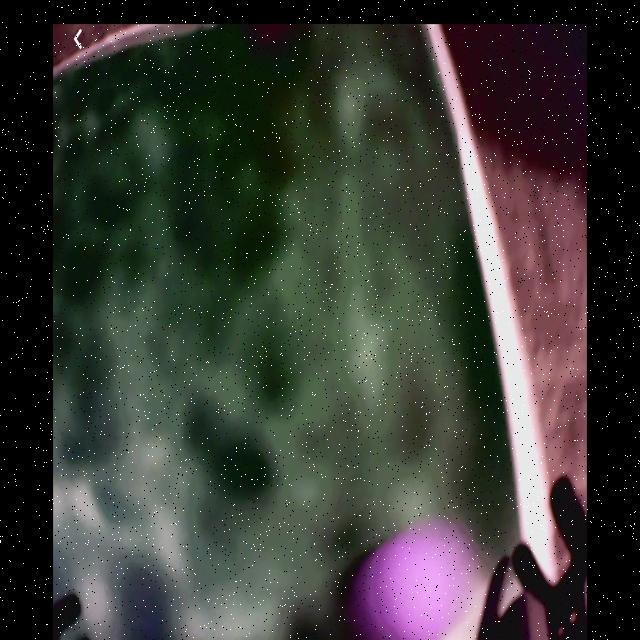ball: (366, 535, 468, 635)
